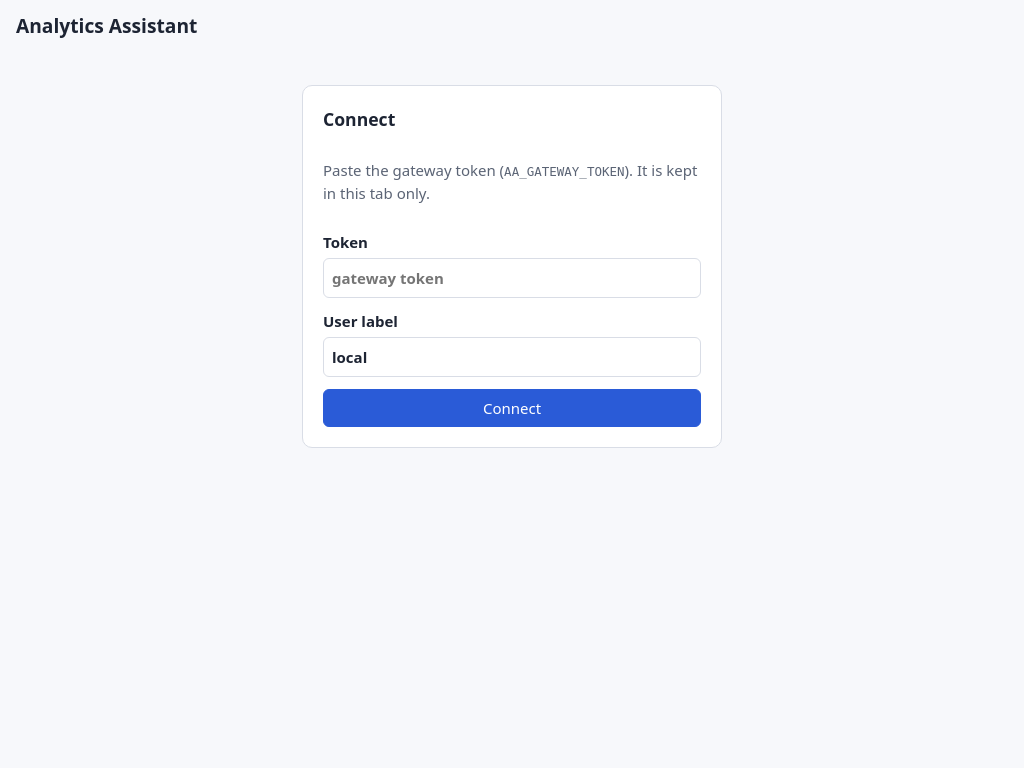
Test case: App › shows a refused tool call and a failed run
The width and height of the screenshot is (1024, 768).
In the password field labelled "Token": (512, 278) [323,258,701,298], type "tok-1234"
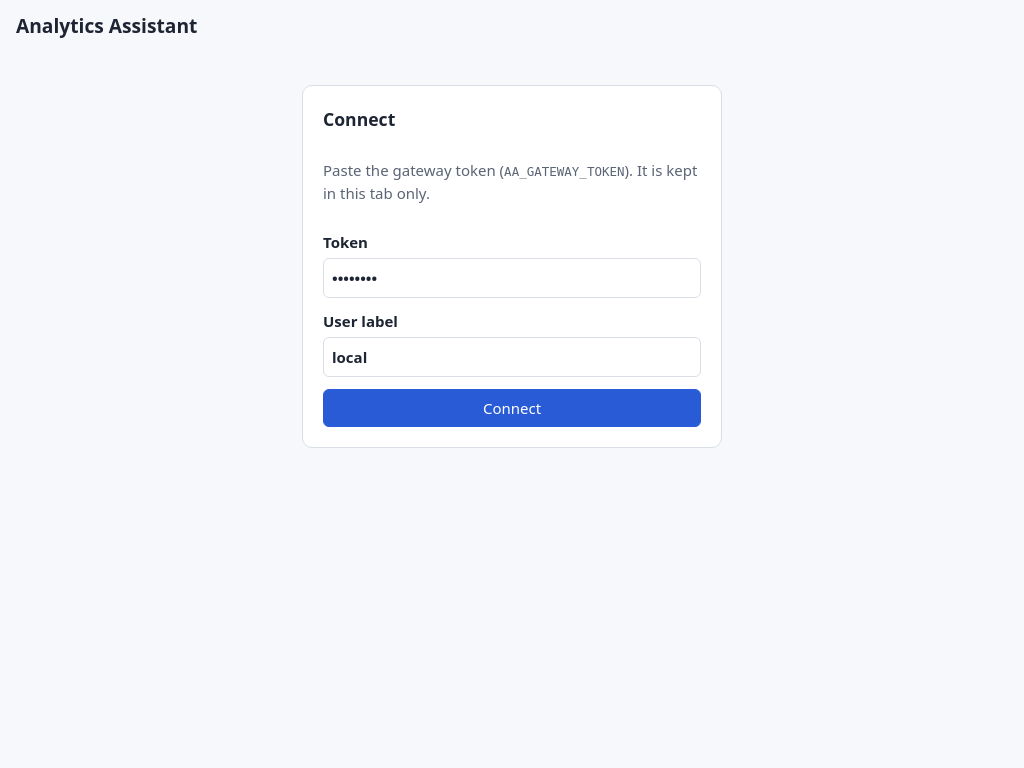
Click the button "Connect": (512, 408) [323,389,701,427]
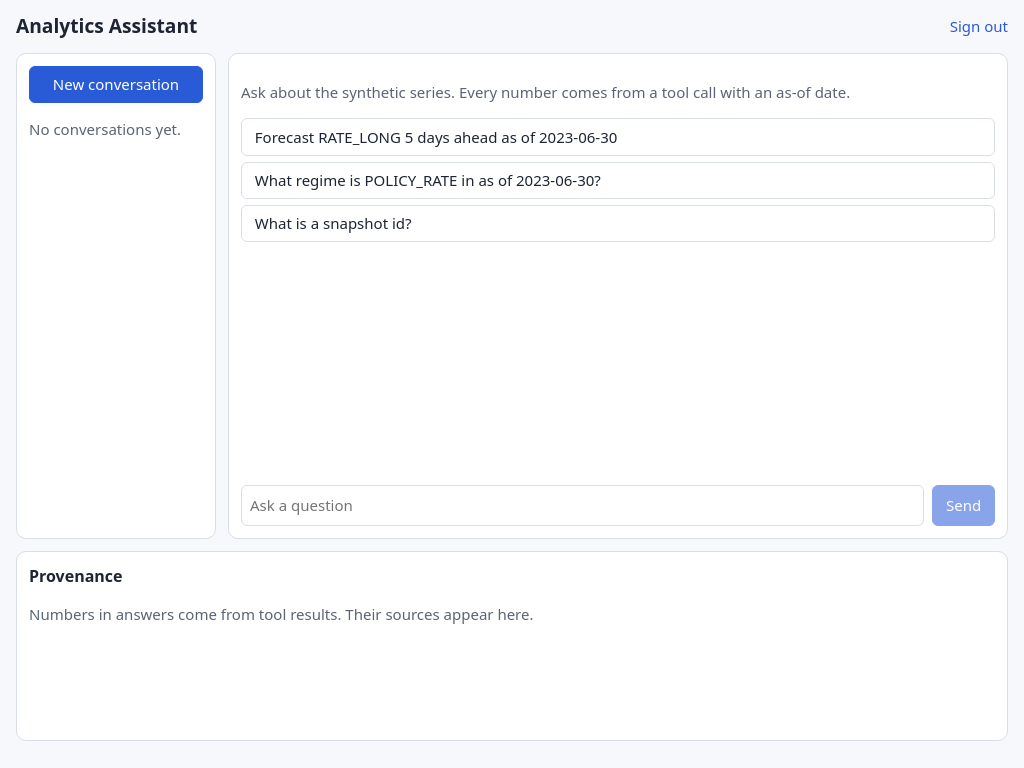
Expected: the text "No conversations yet." is shown, [29,118,203,141]
In the field named "Message": (583, 506) [241,485,924,526], type "Forecast 50 days"
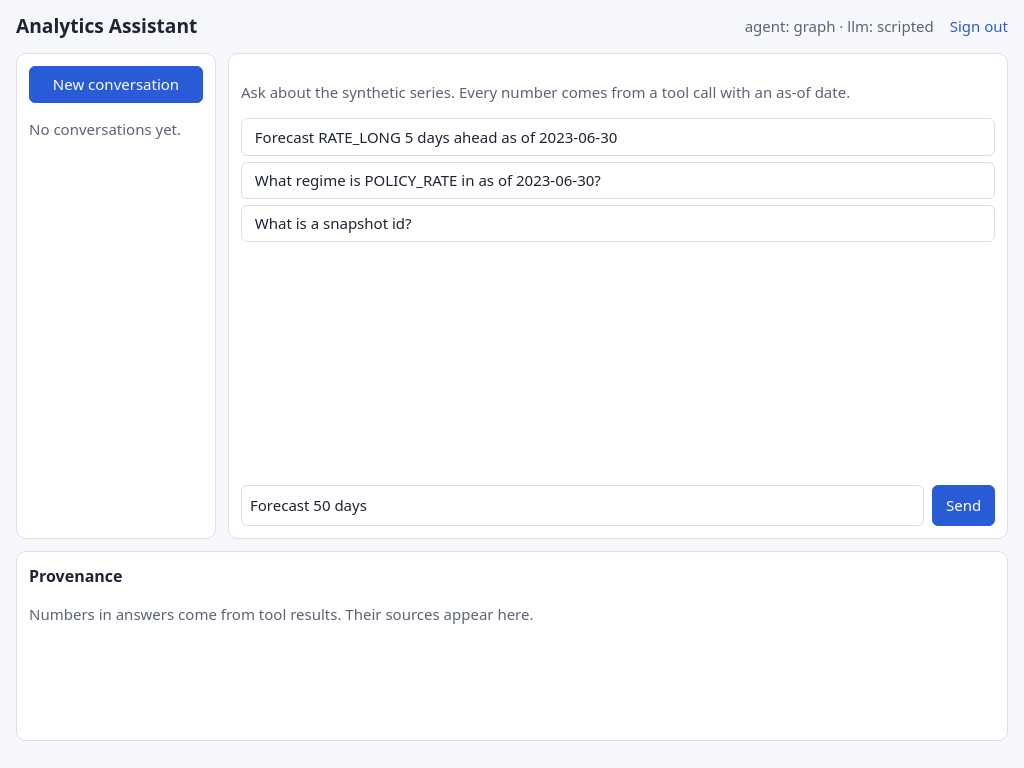
Click the button "Send": (964, 506) [932,485,995,526]
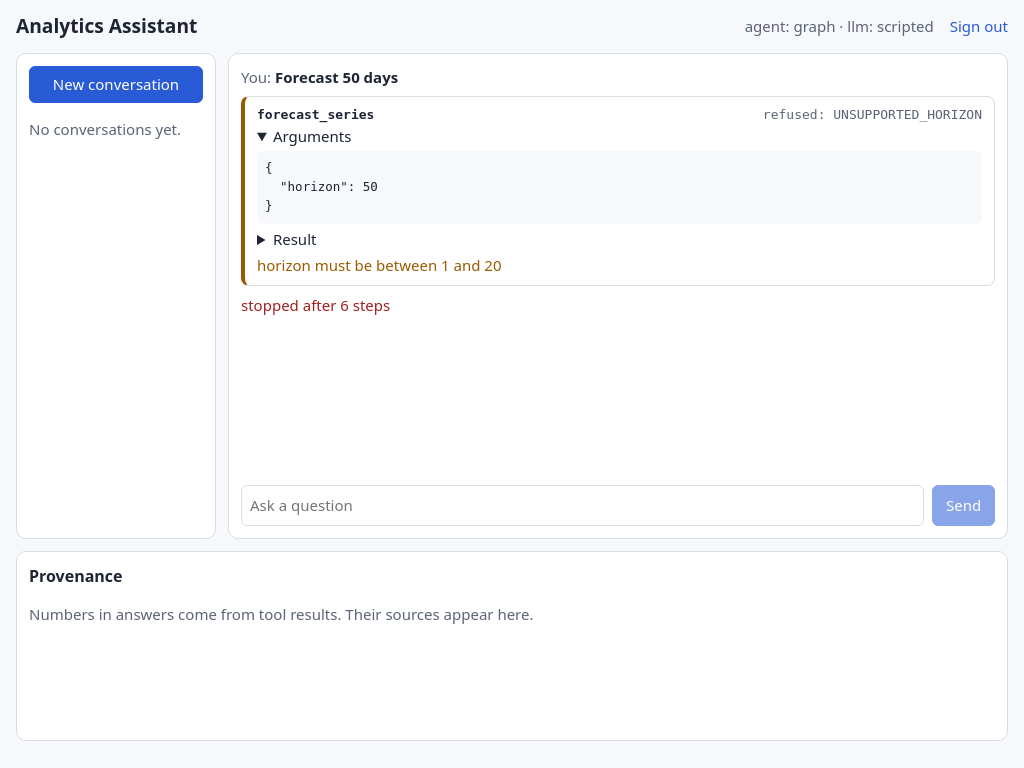
Expected: the text "refused: UNSUPPORTED_HORIZON" is shown, [763,105,982,125]
Expected: the text "horizon must be between 1 and 20" is shown, [257,255,502,275]
Expected: the message reads "stopped after 6 steps", [241,294,390,314]
